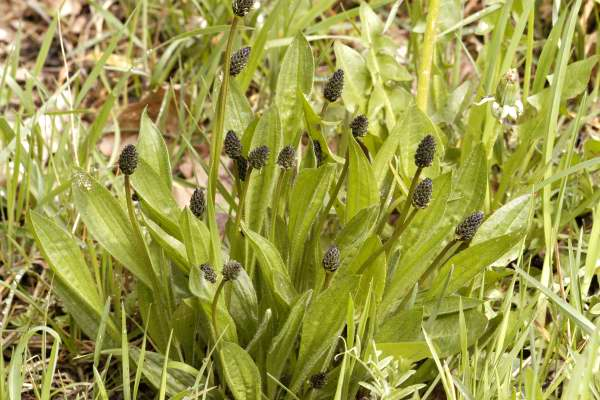buckhorn plantain: (112, 7, 527, 378)
